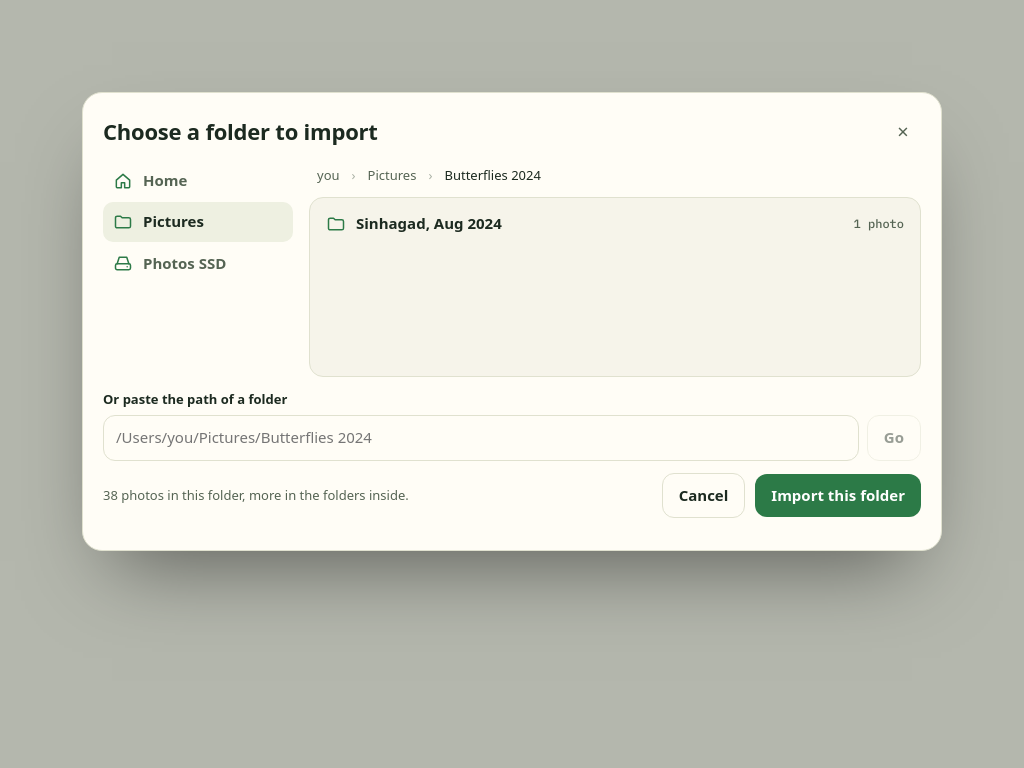
Test: chooses the folder shown, and shows why when that fails
Check: the list named "Folders in Butterflies 2024" is shown, box [309,197,921,377]
Click the button "Import this folder". click: (838, 495)
box: [755,474,921,517]
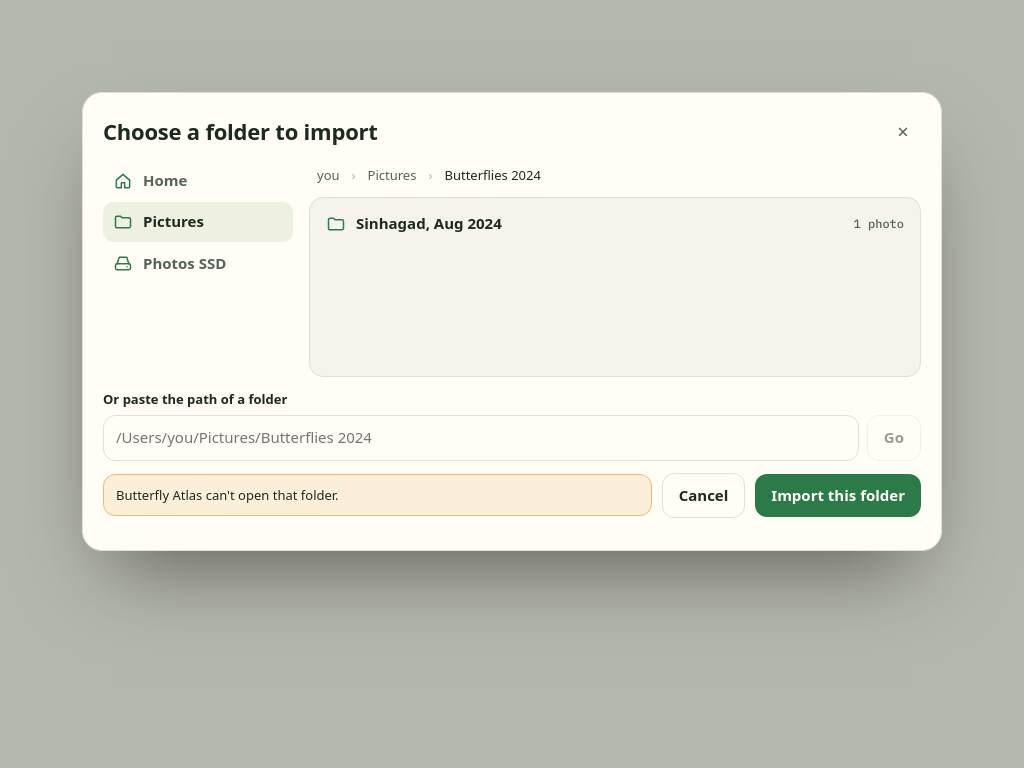
Check: the message reads "Butterfly Atlas can't open that folder.", box [116,486,339,504]
Click the button "Import this folder". click: (838, 495)
box: [755,474,921,517]
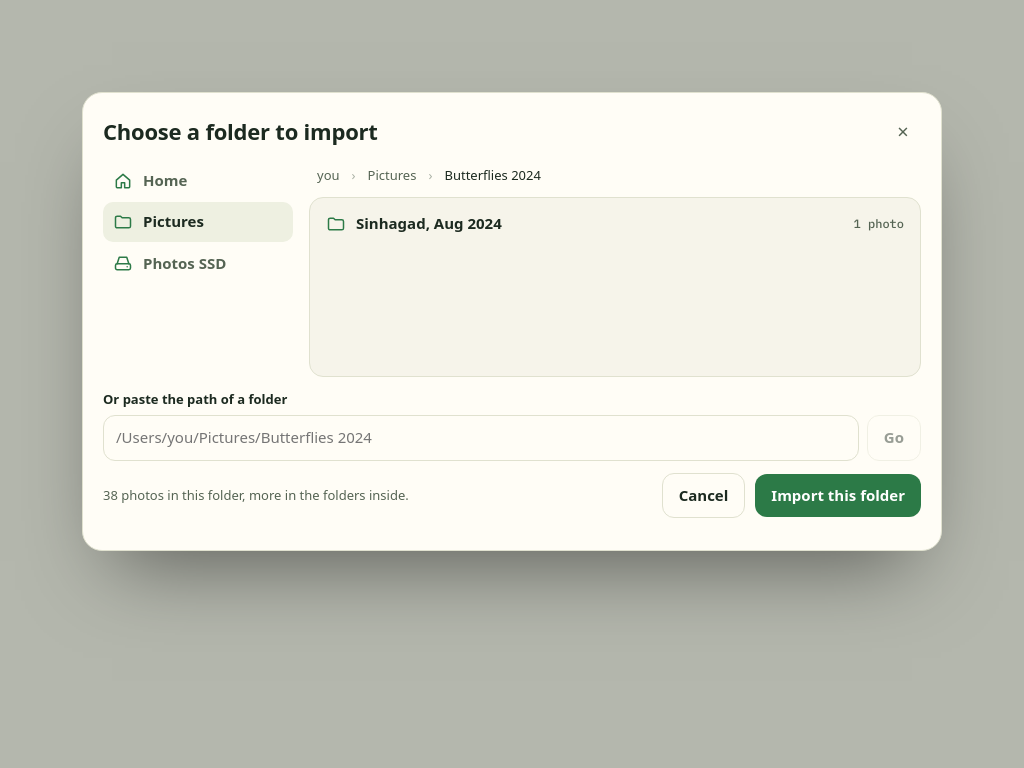
Check: the message "Butterfly Atlas can't open that folder." is gone
